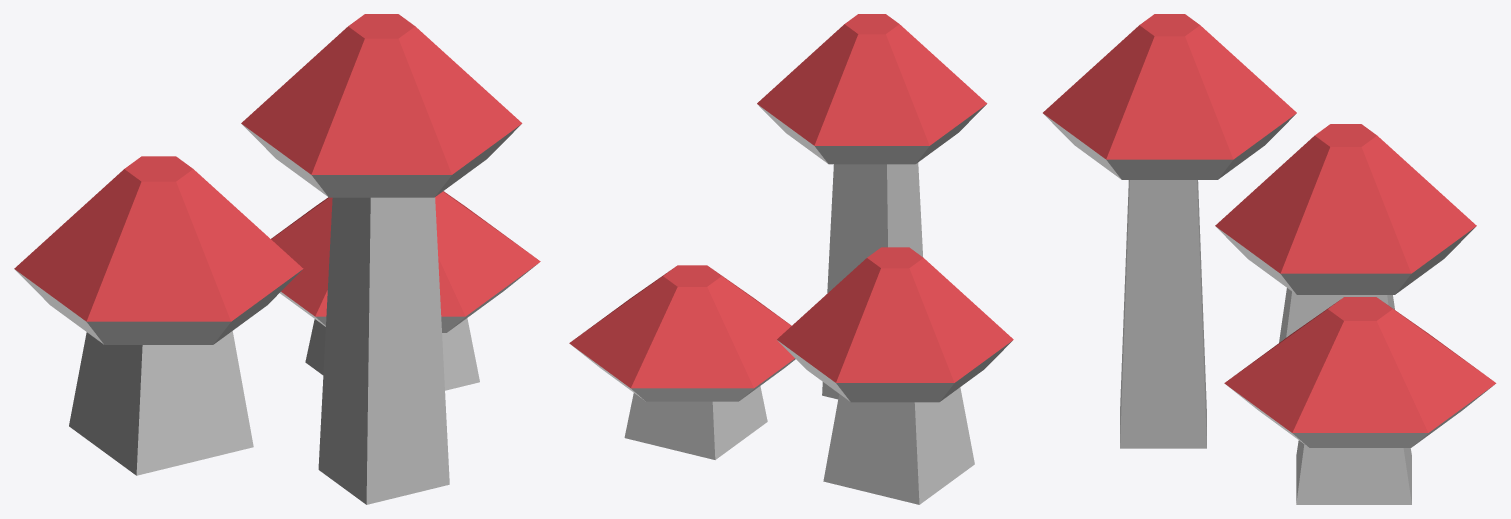
Rendered from mushroom_redGroup.dae.
The picture shows the model from 3 angles, left to right: view 1: azimuth 30°, elevation 25°; view 2: azimuth 150°, elevation 25°; view 3: azimuth 270°, elevation 25°; orthographic projection. The views are drawn at different scales.
Visible parts, largest first — view 1: mushroom_redGroup; view 2: mushroom_redGroup; view 3: mushroom_redGroup.
Boxes of the visible parts, box(x1,y1,x2,y2) form: mushroom_redGroup: box(14, 14, 540, 504); mushroom_redGroup: box(569, 14, 1013, 504); mushroom_redGroup: box(1043, 14, 1496, 504).
Size of the model in its own units: 0.2696 by 0.2505 by 0.2542.
